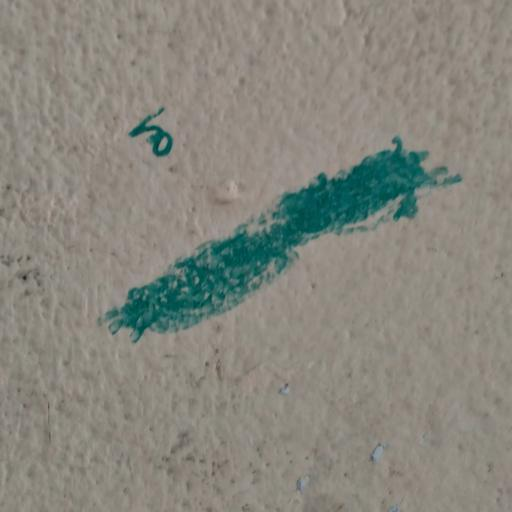stain: (81, 114, 469, 368), (104, 96, 212, 187)
